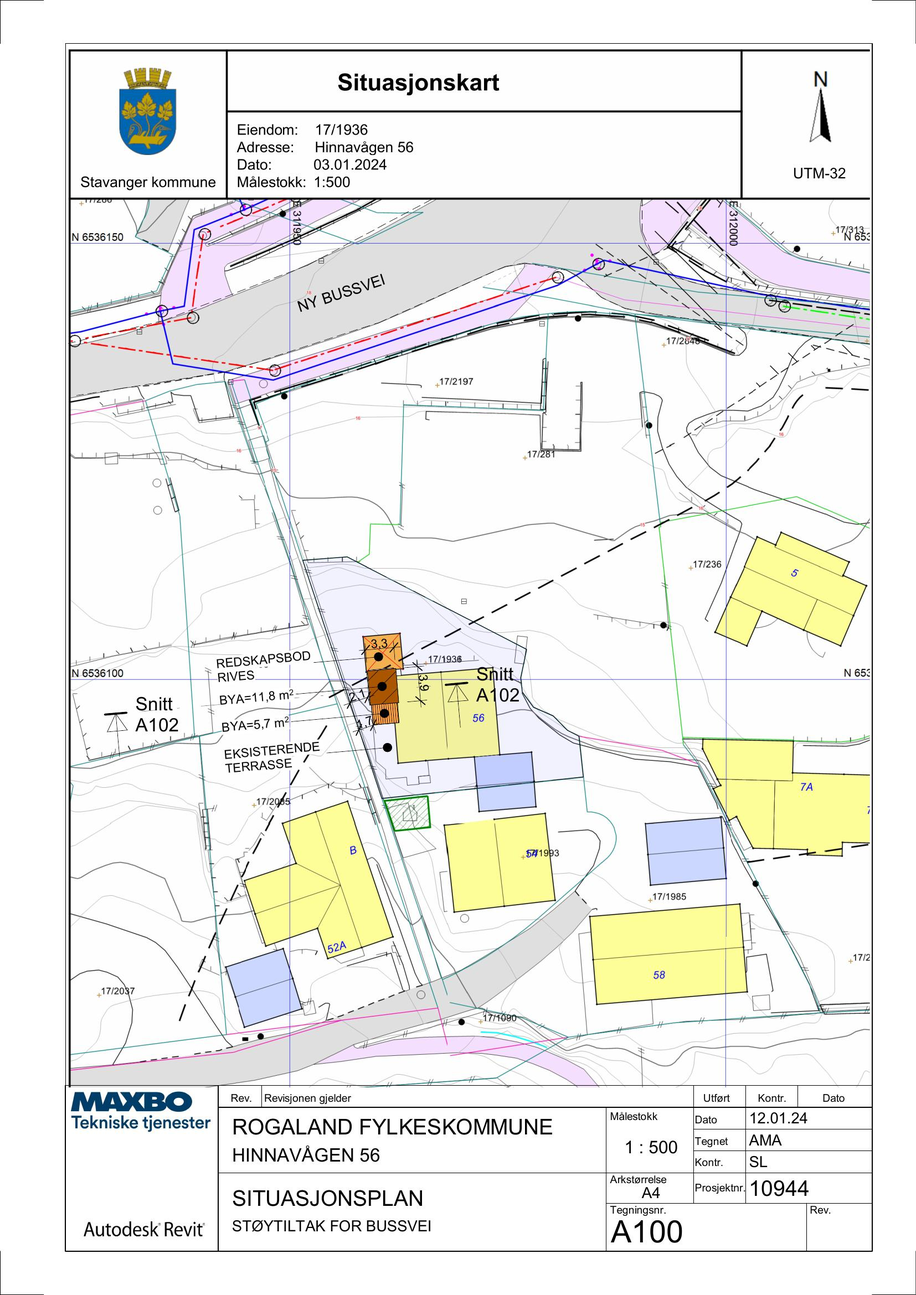situasjonskart: (72, 202, 872, 1082)
